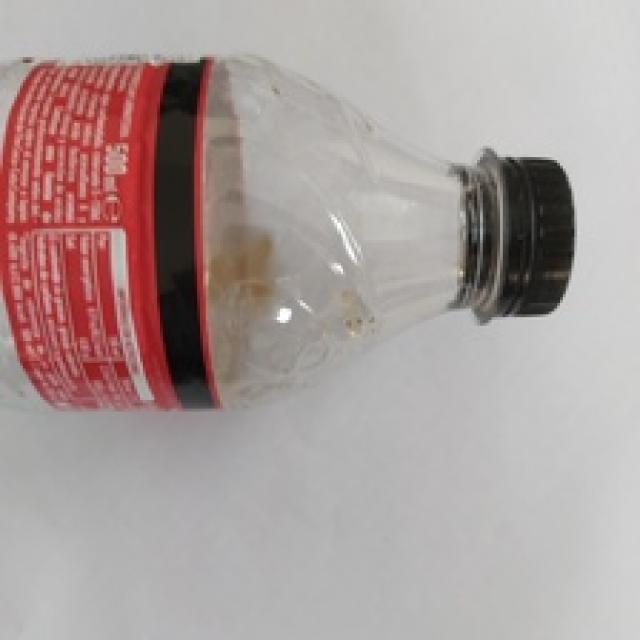Plastic: (0, 54, 572, 413)
